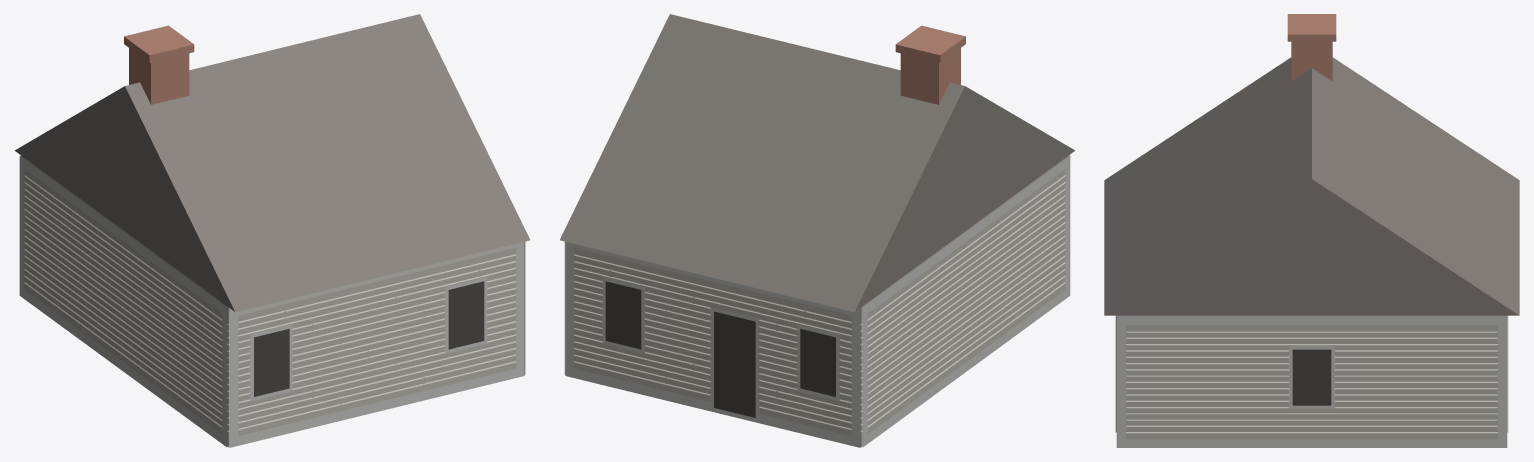
File: recon_1835_blk_lake_market_d4_02__inferred_1835.glb
3 views of the same model, side by side, from view 1: azimuth 30°, elevation 25°; view 2: azimuth 150°, elevation 25°; view 3: azimuth 270°, elevation 25° (orthographic). The views are drawn at different scales.
Parts seen in each view (by area): view 1: recon_1835_blk_lake_market_d4_02__inferred_1835; view 2: recon_1835_blk_lake_market_d4_02__inferred_1835; view 3: recon_1835_blk_lake_market_d4_02__inferred_1835.
Part boxes in pixels (left/top/right/bottom): recon_1835_blk_lake_market_d4_02__inferred_1835: left=14, top=14, right=529, bottom=447; recon_1835_blk_lake_market_d4_02__inferred_1835: left=560, top=14, right=1075, bottom=447; recon_1835_blk_lake_market_d4_02__inferred_1835: left=1104, top=14, right=1519, bottom=447.
Size of the model in its own units: 6.55 by 6.76 by 8.39.
